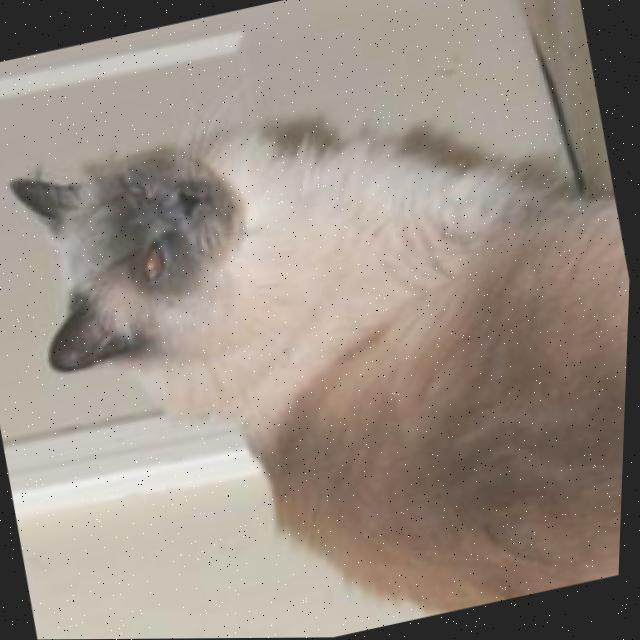Ragdoll: (0, 45, 639, 640)
